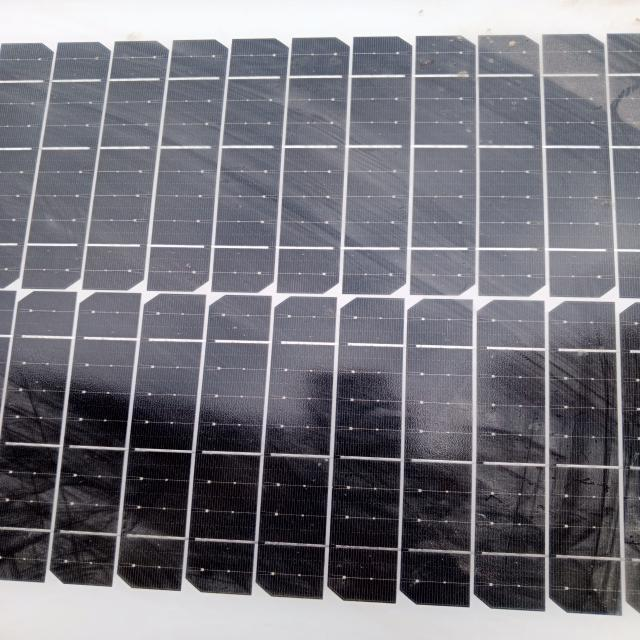Anomaly Solar Panel: (0, 3, 640, 627)
Surface Contaminant: (35, 15, 639, 628)
